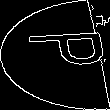P_E: (6, 34, 104, 76)
